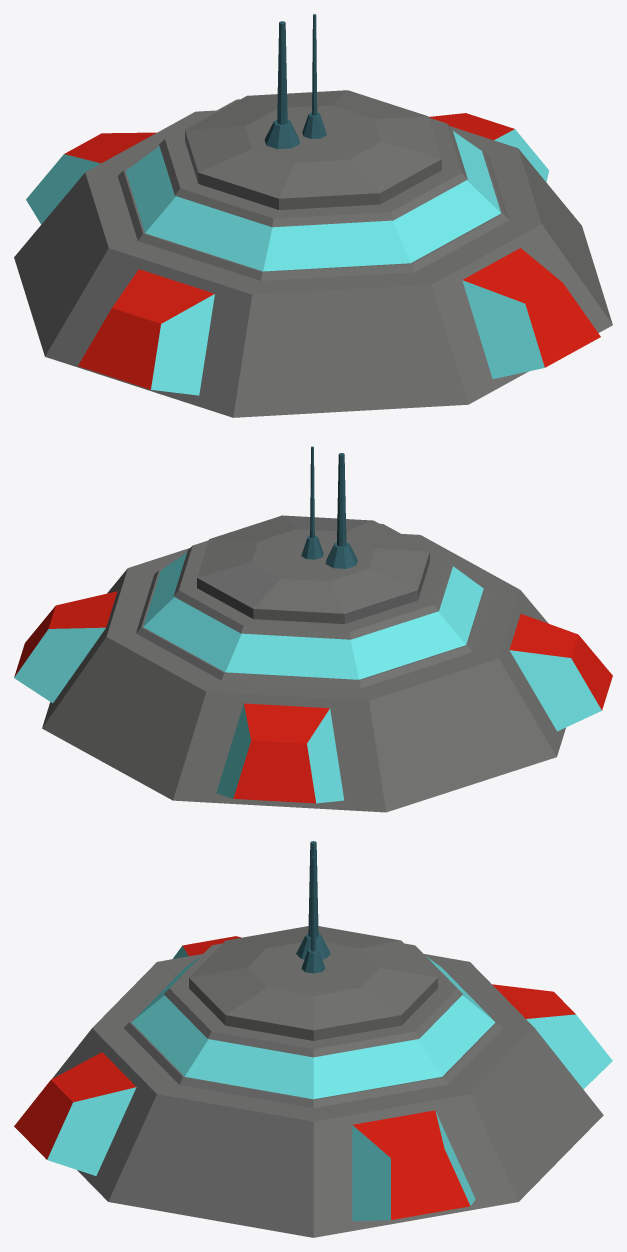
Rendered from UfoBoss.fbx.
3 renders of one model, top to bottom at view 1: azimuth 30°, elevation 25°; view 2: azimuth 150°, elevation 25°; view 3: azimuth 270°, elevation 25°, orthographic. The views are drawn at different scales.
Visible parts, largest first — view 1: Cube.005; view 2: Cube.005; view 3: Cube.005.
Part boxes in pixels (x1=…): Cube.005: x1=14, y1=14, x2=612, y2=417; Cube.005: x1=14, y1=446, x2=612, y2=812; Cube.005: x1=14, y1=841, x2=612, y2=1237.
Bounding box in the file's own units: 6.29 × 3.45 × 6.29.
1 material, 1 textured.
